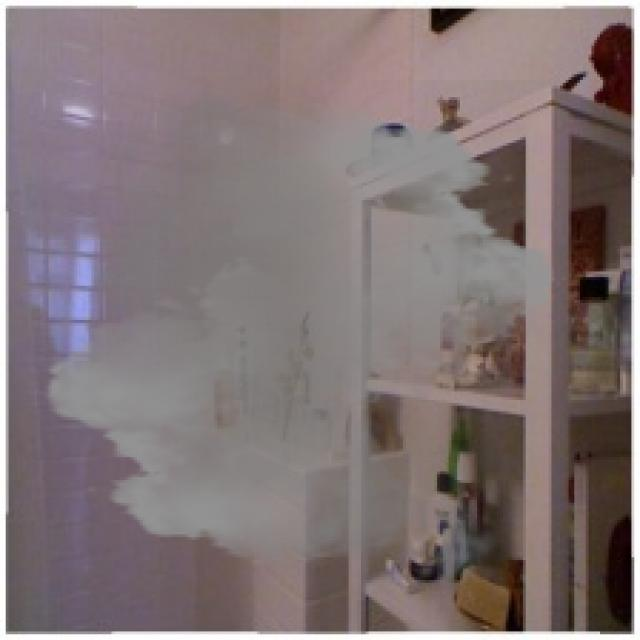smoke: (29, 80, 572, 600)
